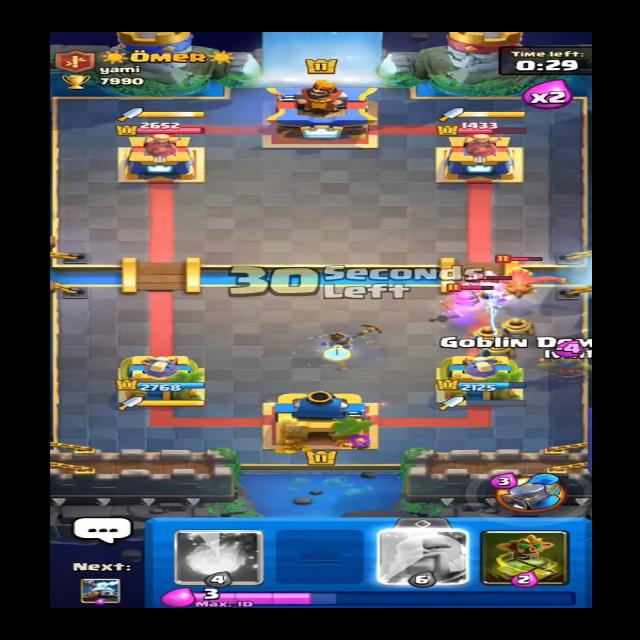mini-pekka: (435, 280, 484, 306)
monk: (458, 266, 519, 310)
phoenix: (468, 250, 581, 300)
